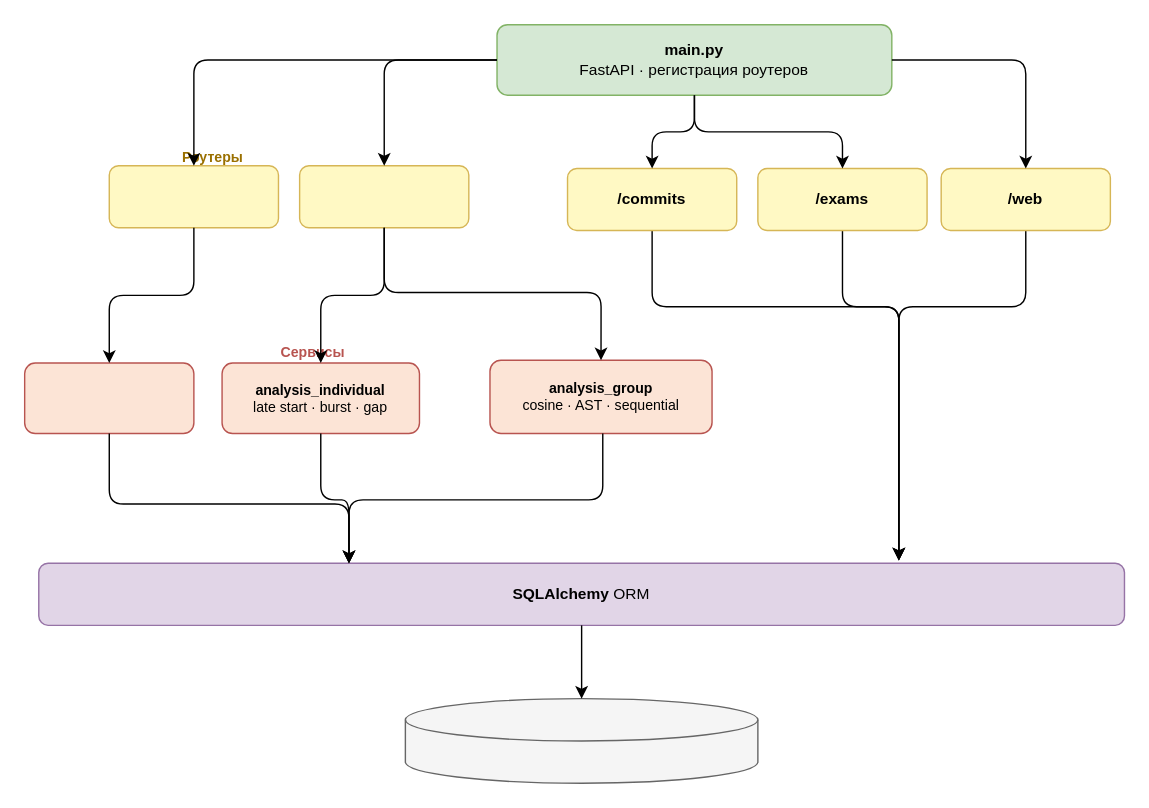
Image size: 1149x808. Some labels were removed from this diagram. Each missing label, with the centre of its shape:
/analysis: the point at 383,196
/auth: the point at 193,196
auth_service JWT · bcrypt: the point at 108,398
SQLite: the point at 581,740
